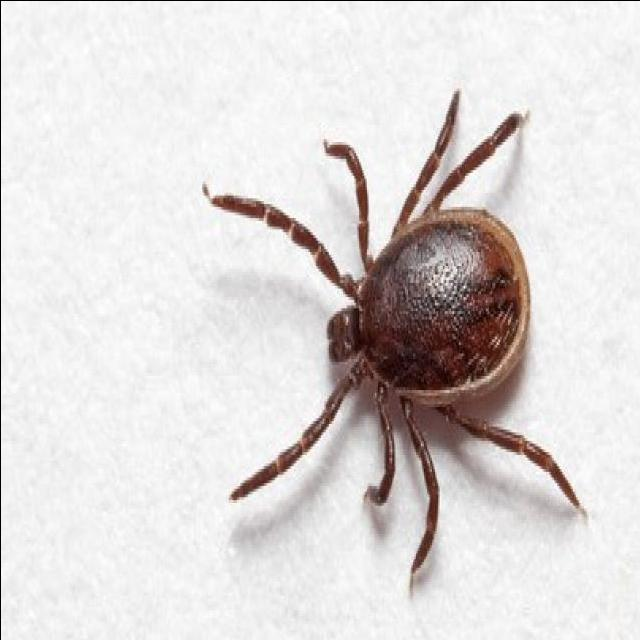Ixodes Ricinus-M: (201, 90, 585, 581)
